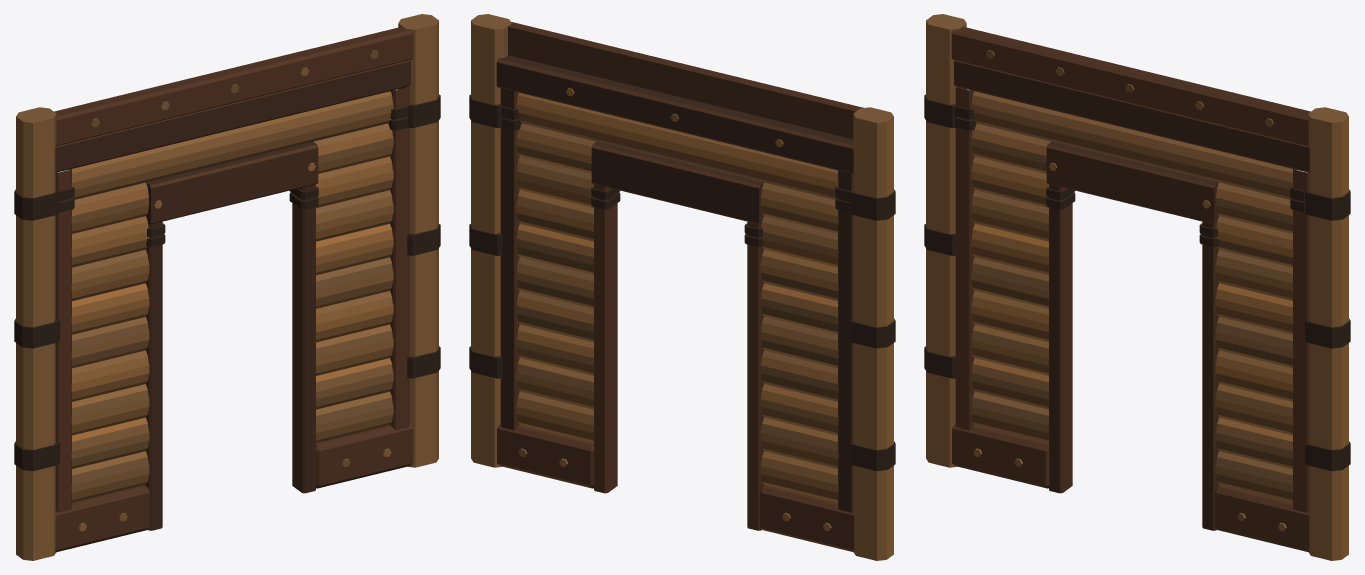
Rendered from interchangeable-survival-wall-c0e158.glb.
3 views of the same model, side by side, from view 1: azimuth 30°, elevation 25°; view 2: azimuth 150°, elevation 25°; view 3: azimuth 330°, elevation 25° (orthographic).
Visible parts, largest first — view 1: wall; view 2: wall; view 3: wall.
Boxes of the visible parts, box(x1,y1,x2,y2) form: wall: box(14, 14, 440, 560); wall: box(469, 14, 895, 560); wall: box(924, 14, 1350, 560).
Size of the model in its own units: 3 by 3 by 0.2.
